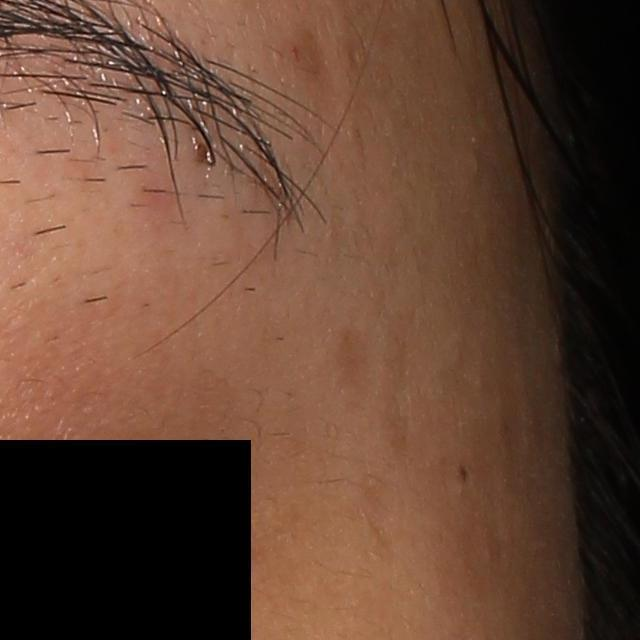nevus: (457, 462, 470, 483)
